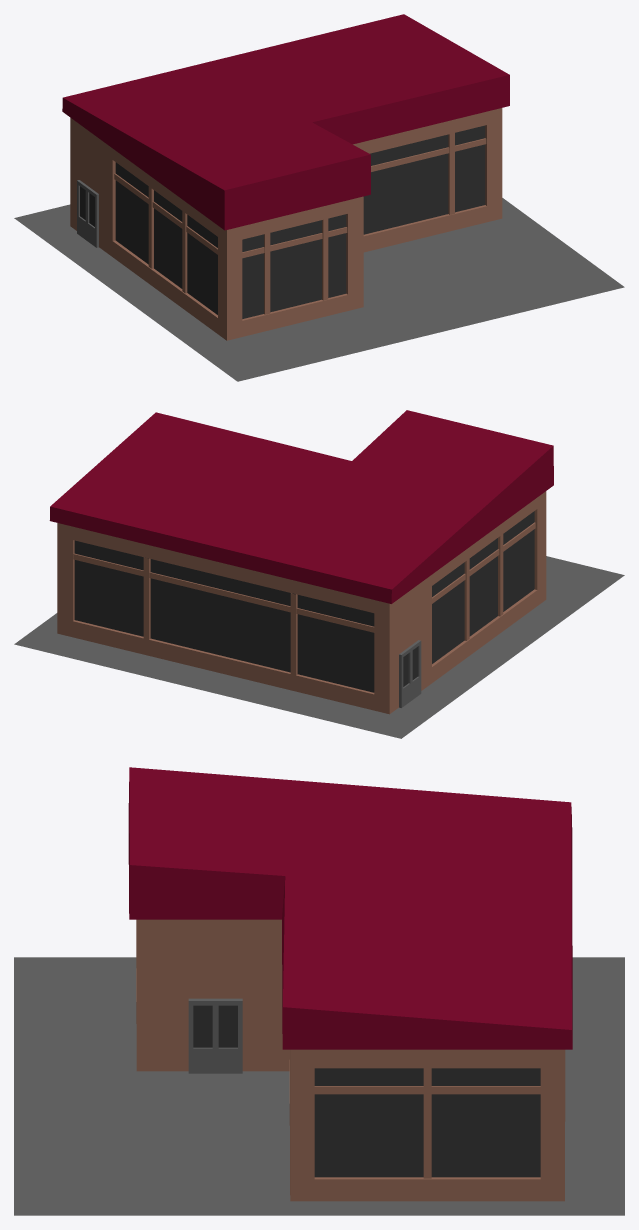
The model's file is pub_01.fbx.
The picture shows the model from 3 angles, top to bottom: view 1: azimuth 30°, elevation 25°; view 2: azimuth 150°, elevation 25°; view 3: azimuth 270°, elevation 25°; orthographic projection. The views are drawn at different scales.
Parts seen in each view (by area): view 1: pub_01; view 2: pub_01; view 3: pub_01.
Part boxes in pixels (box(x1,y1,x2,y2)): pub_01: box(14, 14, 624, 381); pub_01: box(14, 410, 624, 738); pub_01: box(14, 767, 624, 1215).
Size of the model in its own units: 20 by 7.57 by 20.
